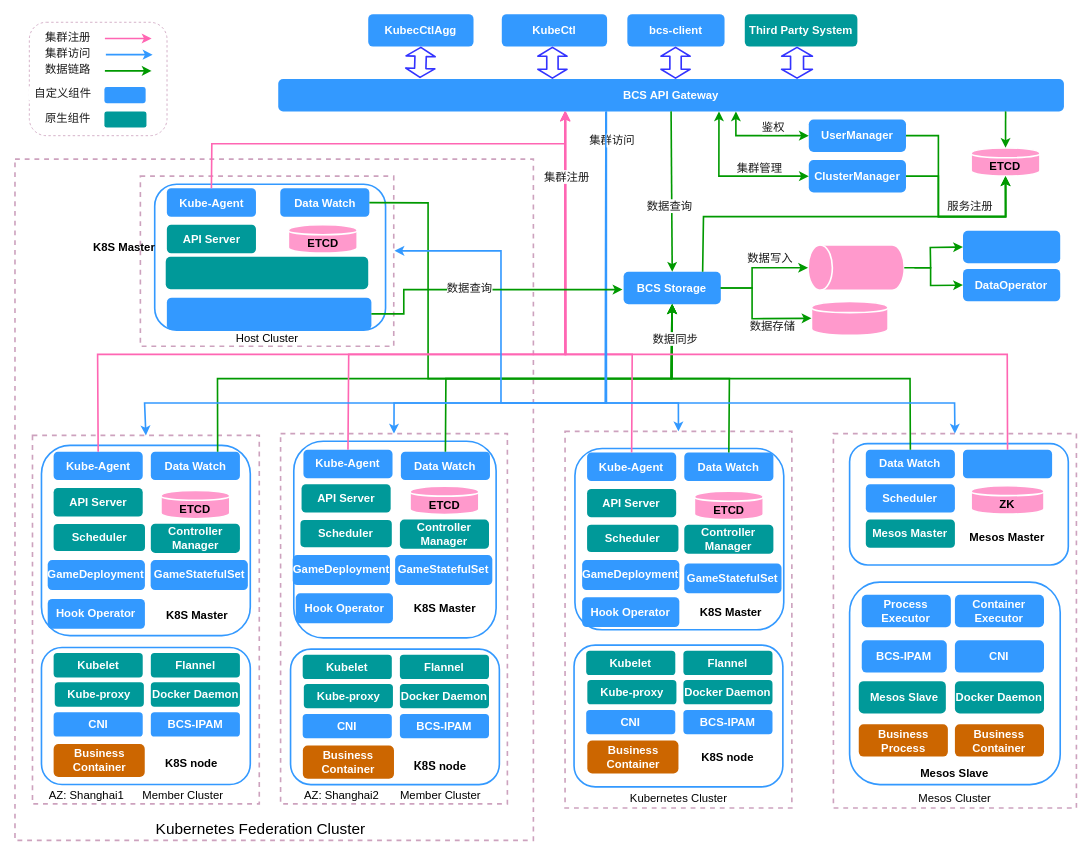
Some shapes in this 1091 by 856 pixel diagram are drawn without their labels. Here are the shapes that lost their labels. From the top down, the box of each, then its label:
(963, 230, 1060, 263): AlertManager
(165, 256, 368, 289): Federation Controller Manager
(807, 244, 905, 291): RabbitMQ
(166, 297, 371, 330): BCS Federated ApiServer
(810, 300, 888, 336): MongoDB
(963, 449, 1052, 478): MesosDriver
